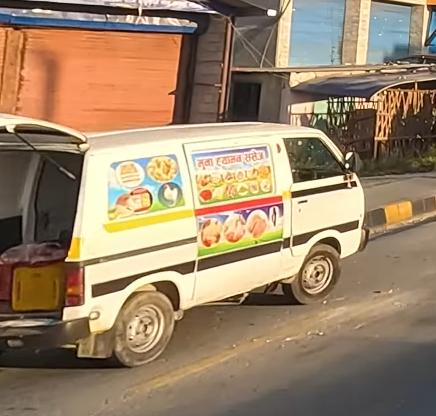van: (2, 109, 371, 371)
